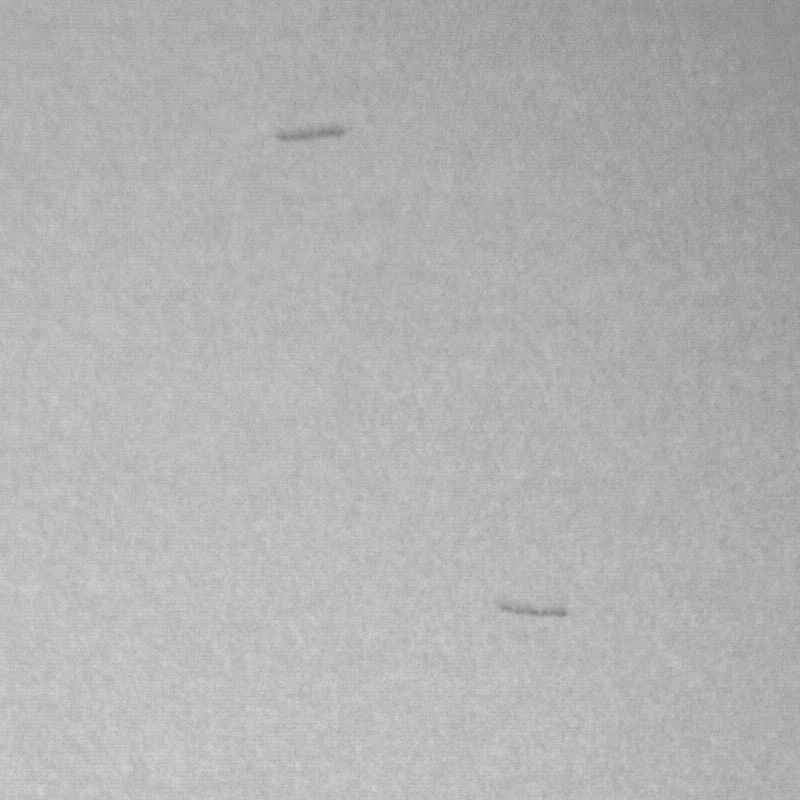defect: (499, 600, 574, 623), (278, 126, 351, 138)
